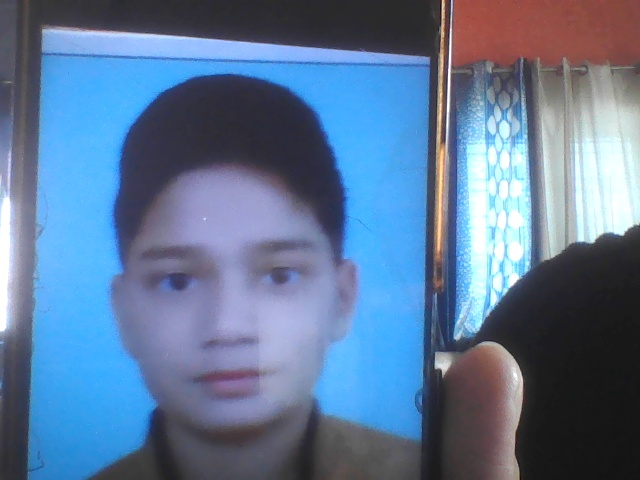fake: (103, 94, 364, 464)
